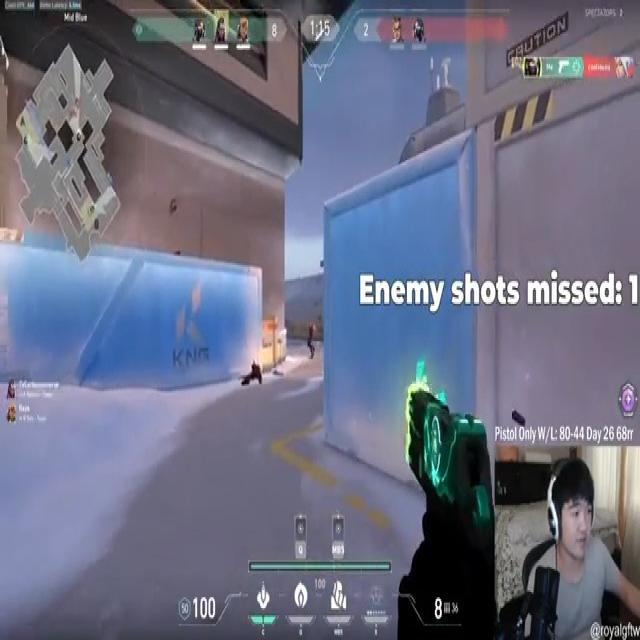enemy: (307, 318, 317, 362)
